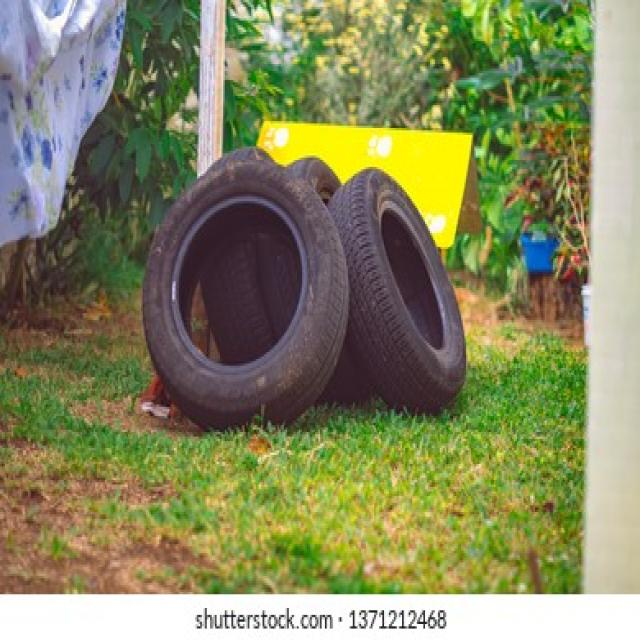tire: (141, 144, 350, 432), (325, 165, 466, 416)
